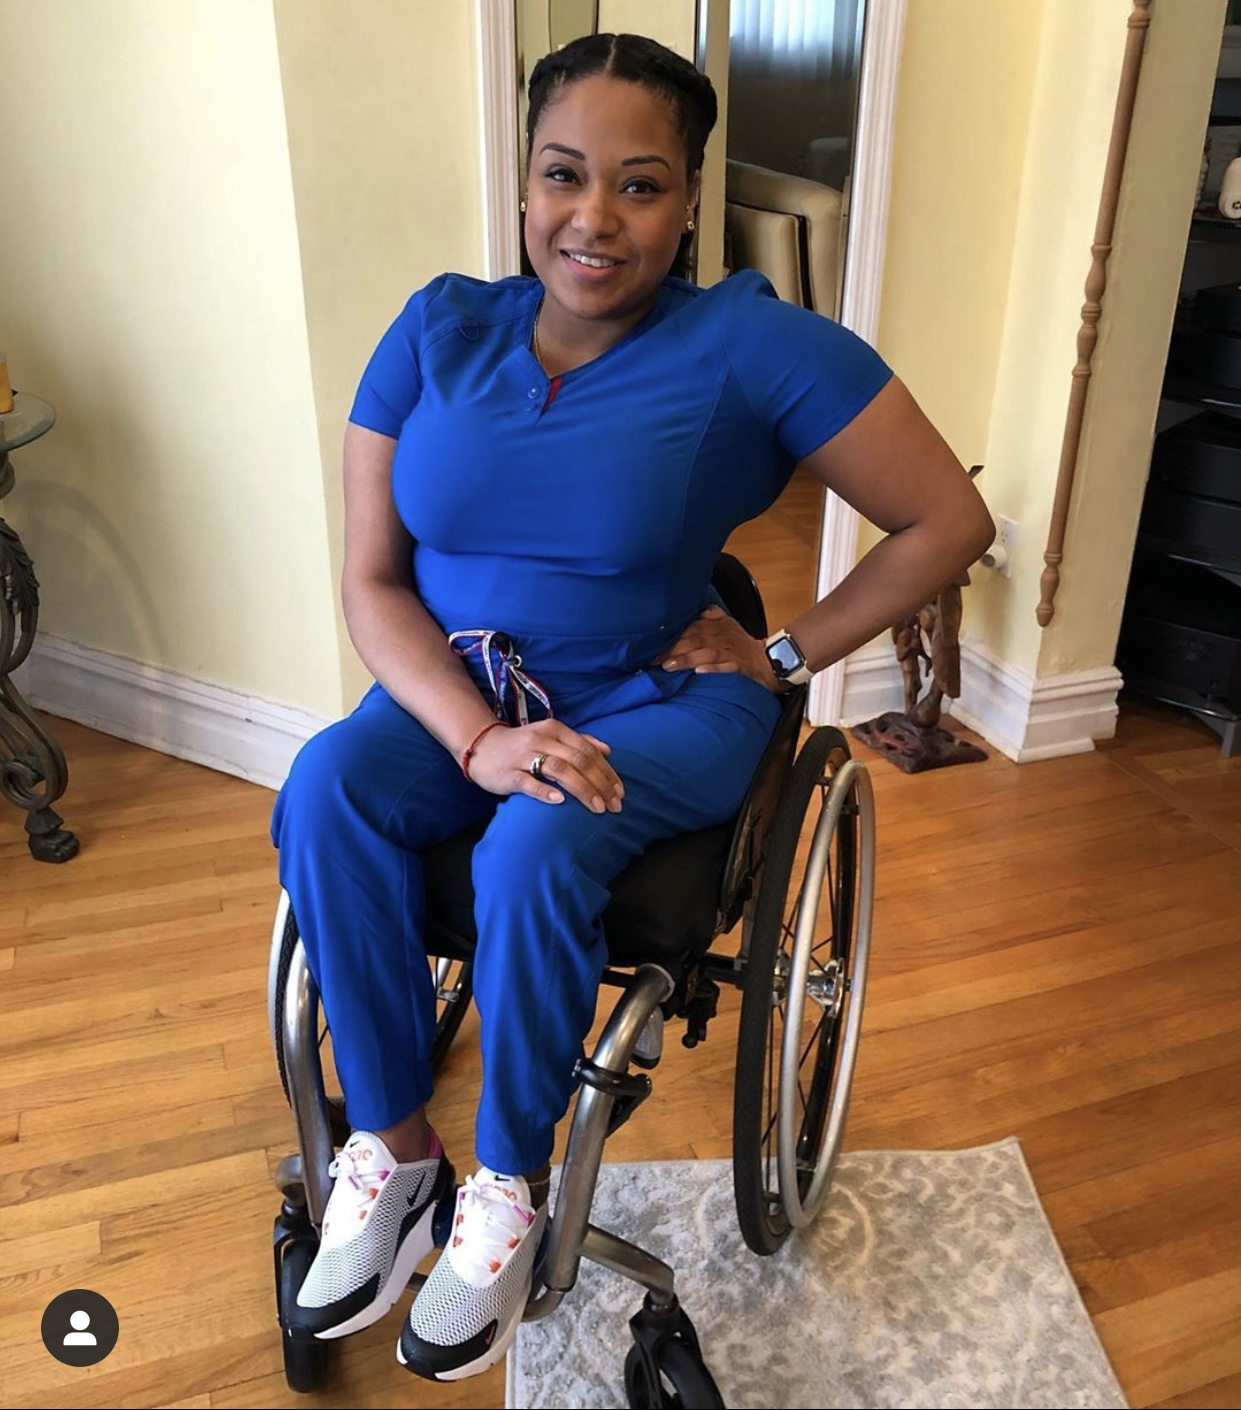wheelchair: (263, 35, 996, 1410)
